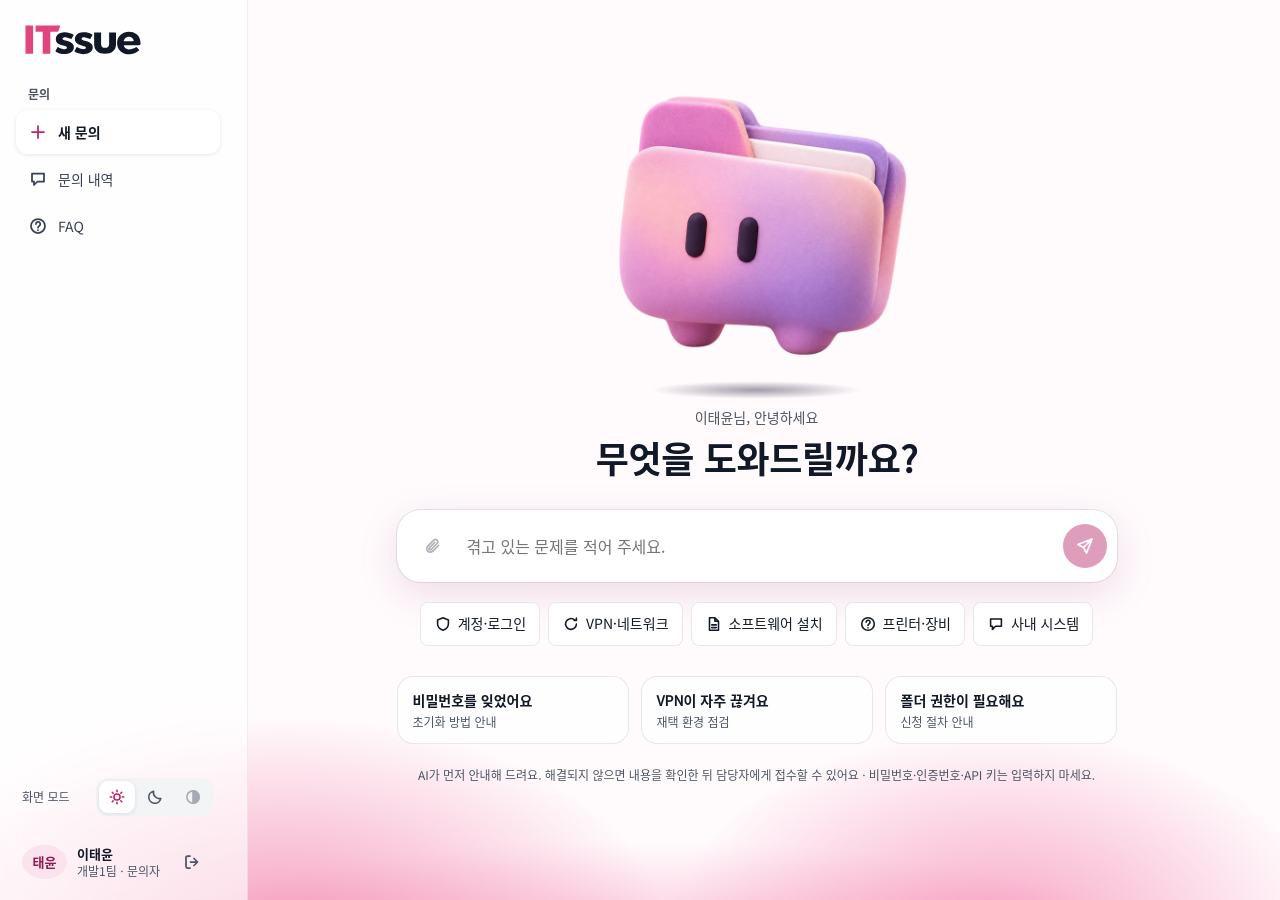
Test case: 새 문의 (챗봇 시작 화면) › Enter 로 보내면 문의가 만들어지고 대화 화면으로 이동한다
This screenshot has width=1280, height=900.
Step 1. Type "VPN이 안 돼요" into the text box named "메시지 입력" → coordinates (758, 546), box [460,524,1056,568]
Then press Enter
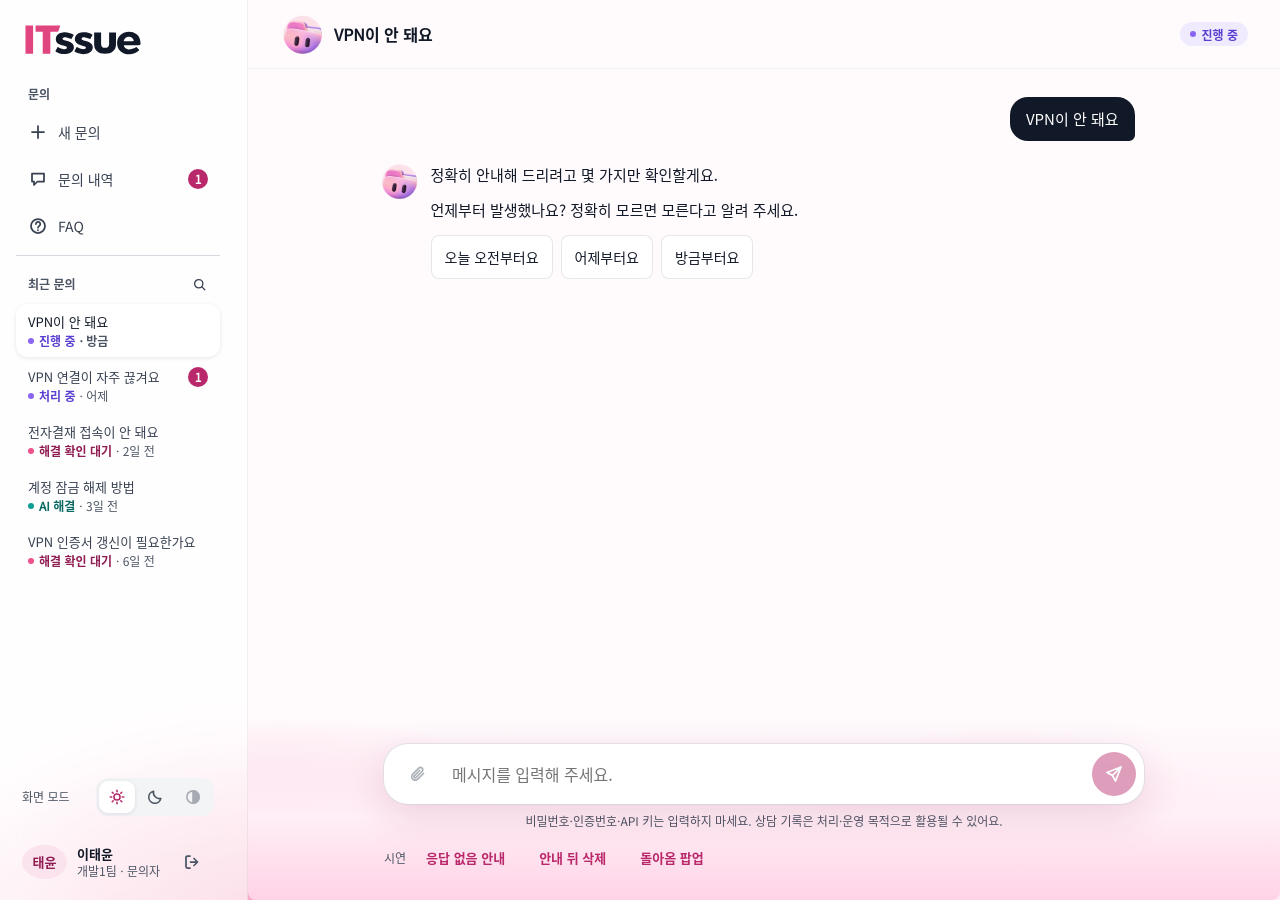
Now the 1st text "VPN이 안 돼요" is shown, box [1010,97,1134,141]
